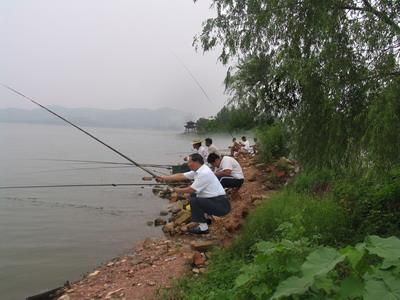person: (157, 154, 232, 235)
